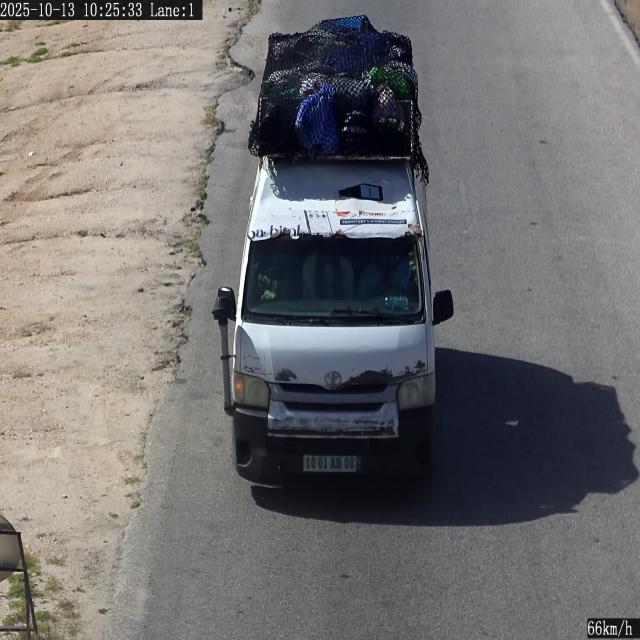BUS: (304, 455, 360, 472)
